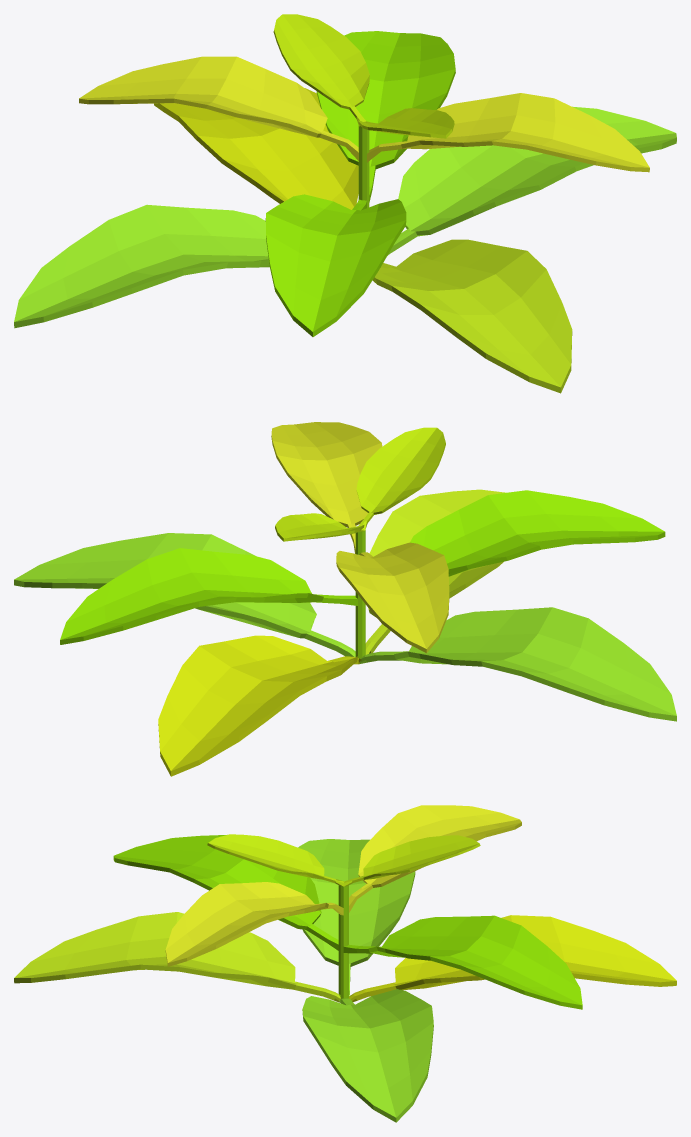
Rendered from Herbs (1).fbx.
3 renders of one model, top to bottom at view 1: azimuth 30°, elevation 25°; view 2: azimuth 150°, elevation 25°; view 3: azimuth 270°, elevation 25°, orthographic. The views are drawn at different scales.
Visible parts, largest first — view 1: Herbs; view 2: Herbs; view 3: Herbs.
Part boxes in pixels (bbox=[...]): Herbs: bbox=[14, 14, 676, 393]; Herbs: bbox=[14, 422, 676, 776]; Herbs: bbox=[14, 805, 676, 1122].
Bounding box in the file's own units: 170 × 46.15 × 171.
